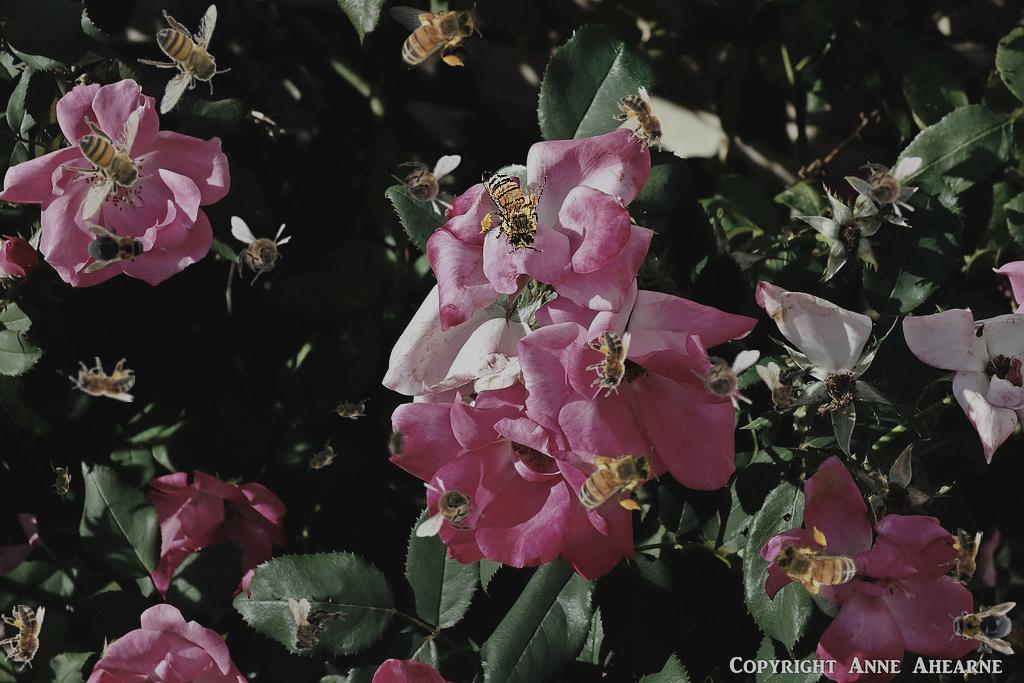Bee: (759, 511, 875, 624), (59, 110, 153, 221), (137, 4, 231, 115), (474, 158, 552, 259), (389, 2, 482, 70), (566, 446, 659, 514), (605, 83, 681, 164), (275, 594, 350, 662), (416, 476, 486, 537), (231, 216, 292, 286), (391, 155, 461, 216), (690, 350, 760, 411), (852, 157, 922, 218), (82, 221, 150, 273), (948, 602, 1016, 654), (756, 362, 818, 415), (938, 528, 983, 594), (69, 357, 135, 402), (586, 331, 631, 397), (0, 605, 45, 671), (298, 437, 344, 479), (860, 462, 898, 508), (385, 422, 411, 464), (50, 462, 72, 502), (330, 398, 370, 420)
